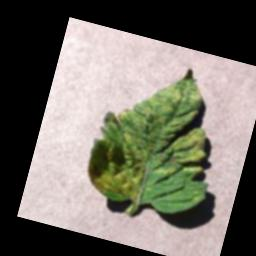Leaf_Mold: (86, 49, 224, 220)
